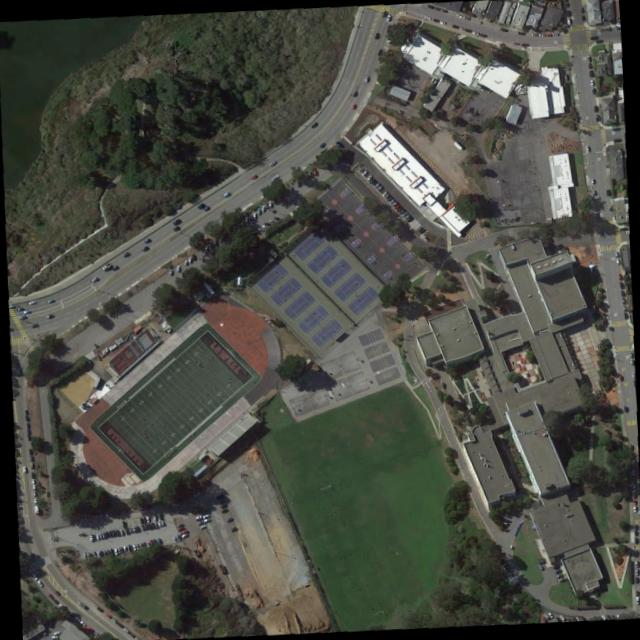small-vehicle: (309, 121, 317, 129), (77, 602, 85, 610), (482, 252, 490, 259), (121, 251, 128, 258), (268, 161, 276, 167), (101, 264, 109, 270), (45, 298, 53, 304), (470, 30, 478, 36), (109, 616, 115, 624), (139, 246, 146, 252), (220, 192, 227, 198), (271, 174, 278, 180), (318, 142, 325, 148), (405, 216, 412, 222), (498, 26, 505, 32), (110, 265, 117, 271), (394, 206, 401, 212), (382, 194, 389, 200), (380, 191, 387, 197), (384, 14, 390, 21), (35, 580, 42, 586), (546, 611, 552, 618), (587, 263, 595, 268), (141, 239, 149, 244), (171, 219, 179, 224), (373, 32, 378, 40), (455, 13, 463, 18), (103, 613, 111, 618), (541, 613, 549, 618), (178, 529, 186, 534), (196, 525, 204, 530), (248, 173, 254, 179), (397, 208, 403, 214), (375, 185, 381, 191), (54, 591, 60, 597), (558, 614, 564, 620), (537, 564, 543, 570), (171, 226, 178, 231), (439, 8, 446, 13), (30, 324, 37, 329), (17, 315, 24, 320), (90, 277, 97, 282), (389, 201, 396, 206), (387, 199, 394, 204), (372, 183, 379, 188), (364, 175, 371, 180), (350, 103, 355, 110), (362, 75, 367, 82), (113, 530, 118, 537), (151, 514, 156, 521), (149, 523, 154, 530), (122, 628, 129, 633), (228, 526, 235, 531), (556, 573, 563, 578), (557, 577, 564, 582), (219, 503, 226, 508), (594, 115, 598, 123), (618, 281, 622, 289), (160, 519, 164, 527), (176, 527, 184, 531), (196, 203, 202, 208), (403, 214, 409, 219), (23, 309, 29, 314), (401, 211, 407, 216), (360, 170, 366, 175), (107, 531, 112, 537), (85, 552, 90, 558), (96, 607, 102, 612), (95, 551, 100, 557), (539, 617, 545, 622), (502, 518, 508, 523), (147, 540, 152, 546), (121, 546, 126, 552), (138, 542, 143, 548), (167, 269, 171, 276), (182, 259, 186, 266), (175, 265, 179, 272), (25, 422, 29, 429), (16, 308, 23, 312), (620, 290, 624, 297), (422, 16, 429, 20), (511, 42, 518, 46), (139, 517, 143, 524), (144, 516, 148, 523), (125, 528, 129, 535), (134, 526, 138, 533), (140, 525, 144, 532), (156, 520, 160, 527), (94, 533, 98, 540), (34, 506, 38, 513), (32, 490, 36, 497), (30, 471, 34, 478), (22, 466, 26, 473), (224, 518, 231, 522), (634, 597, 638, 604), (105, 549, 109, 556), (108, 548, 112, 555), (113, 548, 117, 555), (134, 543, 138, 550), (171, 536, 175, 543), (393, 204, 398, 209), (73, 616, 78, 621), (194, 515, 199, 520), (186, 257, 190, 263), (590, 88, 594, 94), (592, 106, 596, 112), (458, 27, 464, 31), (24, 416, 28, 422), (25, 429, 29, 435), (614, 258, 618, 264), (616, 274, 620, 280), (590, 190, 594, 196), (588, 79, 592, 85), (463, 16, 469, 20), (618, 374, 622, 380), (118, 530, 122, 536), (121, 522, 125, 528), (130, 527, 134, 533), (153, 522, 157, 528), (622, 406, 626, 412), (78, 621, 84, 625), (32, 574, 36, 580), (31, 484, 35, 490), (31, 477, 35, 483), (27, 449, 31, 455), (633, 539, 637, 545), (631, 506, 635, 512), (220, 510, 226, 514), (117, 547, 121, 553), (144, 541, 148, 547), (152, 539, 156, 545), (156, 538, 160, 544), (175, 534, 179, 540), (180, 534, 188, 537), (175, 523, 183, 526), (256, 228, 263, 231), (251, 212, 254, 219), (260, 204, 263, 211), (267, 201, 270, 208), (312, 168, 315, 175), (203, 245, 206, 252), (27, 301, 34, 304), (629, 359, 632, 366), (585, 146, 588, 153), (437, 21, 444, 24), (543, 34, 550, 37), (91, 535, 94, 542), (97, 532, 100, 539), (144, 524, 147, 531), (88, 536, 91, 543), (50, 636, 57, 639), (52, 631, 59, 634), (99, 550, 102, 557), (102, 550, 105, 557), (634, 560, 637, 567), (633, 524, 636, 531), (24, 410, 28, 415), (146, 524, 150, 529), (91, 552, 95, 557), (502, 522, 507, 526), (202, 519, 207, 523), (259, 225, 265, 228), (267, 220, 273, 223), (256, 208, 259, 214), (530, 33, 536, 36), (26, 435, 29, 441), (46, 315, 52, 318), (590, 178, 593, 184), (621, 298, 624, 304), (623, 313, 626, 319), (622, 306, 625, 312), (613, 250, 616, 256), (551, 33, 557, 36), (566, 18, 569, 24), (586, 55, 589, 61), (101, 532, 104, 538), (104, 531, 107, 537), (111, 530, 114, 536), (77, 533, 83, 536), (33, 499, 36, 505), (634, 551, 637, 557), (202, 515, 208, 518), (127, 545, 130, 551), (131, 544, 134, 550), (195, 521, 201, 524), (28, 457, 32, 461), (508, 544, 511, 549), (29, 463, 32, 468), (537, 34, 543, 36), (83, 552, 85, 558), (635, 578, 638, 582), (631, 500, 634, 504), (632, 484, 635, 488), (631, 470, 634, 474), (263, 223, 268, 225), (635, 591, 637, 596), (635, 570, 637, 574)
